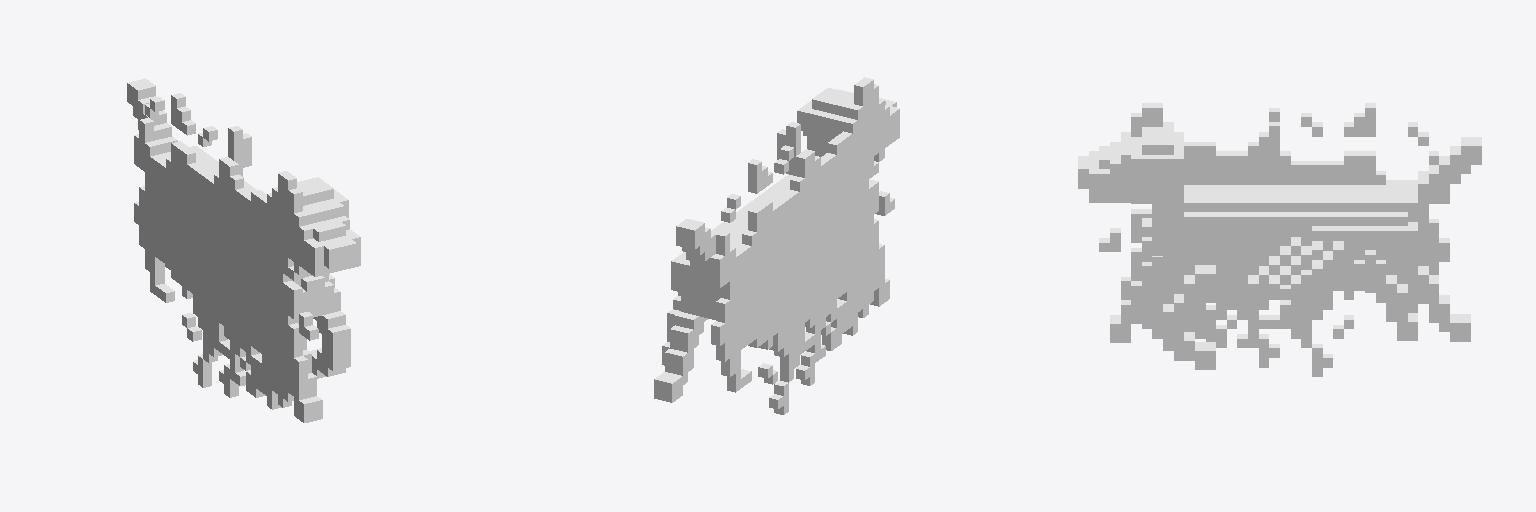
File: Lucky.obj
The picture shows the model from 3 angles: view 1: azimuth 30°, elevation 25°; view 2: azimuth 150°, elevation 25°; view 3: azimuth 270°, elevation 25°; orthographic projection.
Visible parts, largest first — view 1: object 1; view 2: object 1; view 3: object 1.
Boxes of the visible parts, x1=… form: object 1: x1=127, y1=78, x2=360, y2=422; object 1: x1=654, y1=77, x2=899, y2=414; object 1: x1=1078, y1=103, x2=1481, y2=376.
Size of the model in its own units: 0.8 by 2.8 by 3.8.